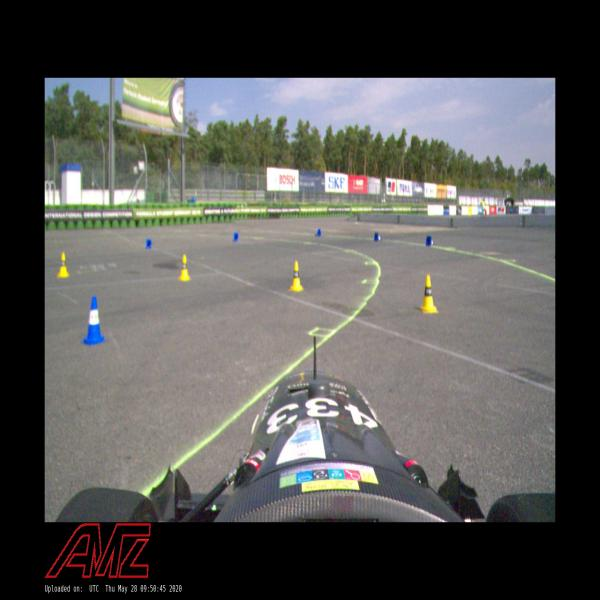blue_cone: (82, 296, 107, 345), (425, 236, 435, 246), (146, 238, 152, 249), (233, 231, 239, 242), (374, 232, 381, 241), (315, 228, 321, 237)
yellow_cone: (420, 274, 439, 314), (288, 260, 304, 292), (178, 253, 191, 281), (56, 252, 70, 277)
